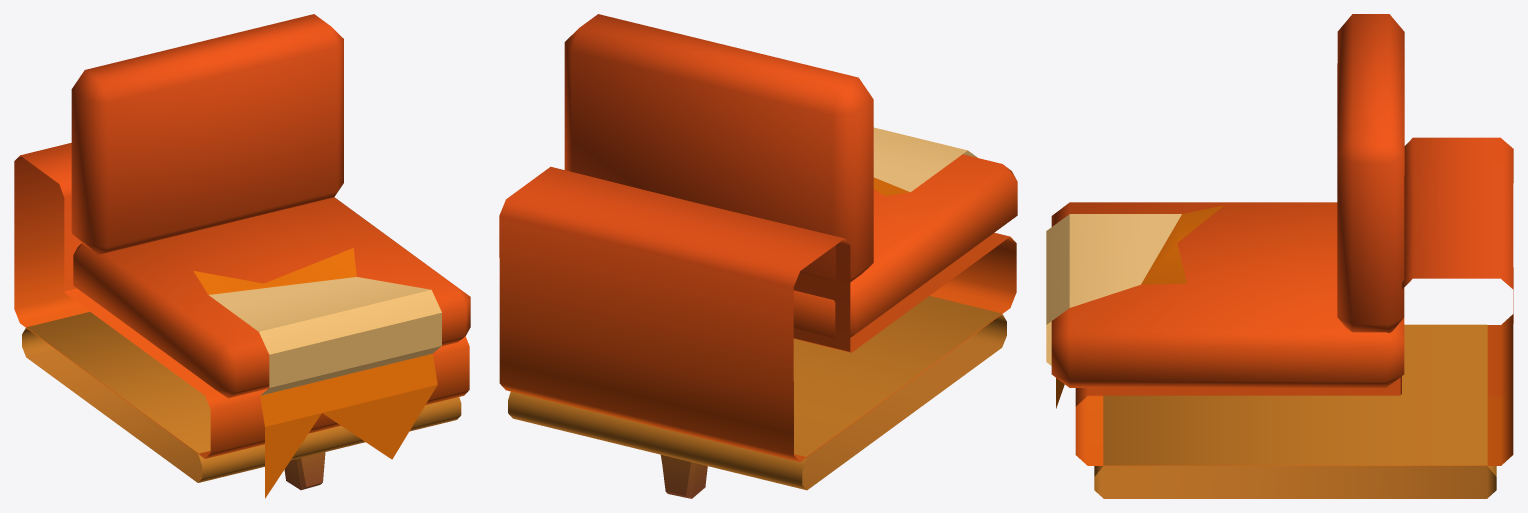
The model's file is Sofa_M_Damaged.fbx.
3 views of the same model, side by side, from view 1: azimuth 30°, elevation 25°; view 2: azimuth 150°, elevation 25°; view 3: azimuth 270°, elevation 25° (orthographic). The views are drawn at different scales.
Parts seen in each view (by area): view 1: LargestSofa._Middle_Damaged; view 2: LargestSofa._Middle_Damaged; view 3: LargestSofa._Middle_Damaged.
Boxes of the visible parts, x1,y1,x2,y2 form: LargestSofa._Middle_Damaged: [14, 14, 470, 498]; LargestSofa._Middle_Damaged: [499, 14, 1017, 498]; LargestSofa._Middle_Damaged: [1046, 14, 1513, 498].
Size of the model in its own units: 3 by 4 by 4.2.
